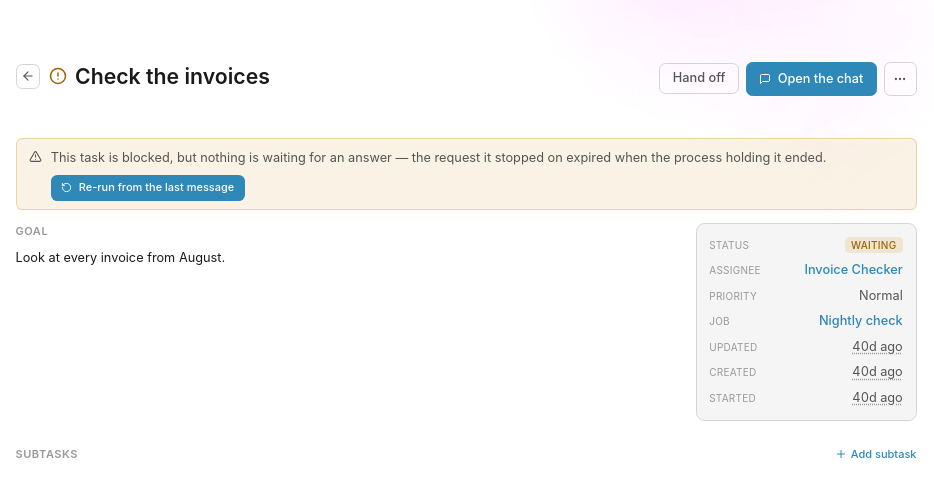
a blocked task with nothing waiting on it › keeps the control and says why when there is no message to send again
Expected: the heading "Check the invoices" is shown, x1=75 y1=62 x2=270 y2=91
Click the button "Re-run from the last message" at (148, 188), box x1=51 y1=175 x2=245 y2=201
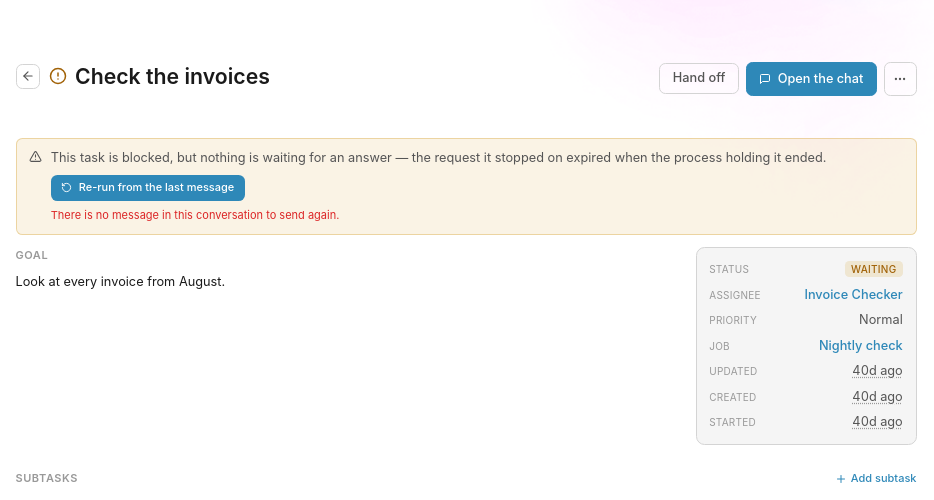
Expected: the text "There is no message in this conversation to send again." is shown, x1=51 y1=208 x2=339 y2=222
